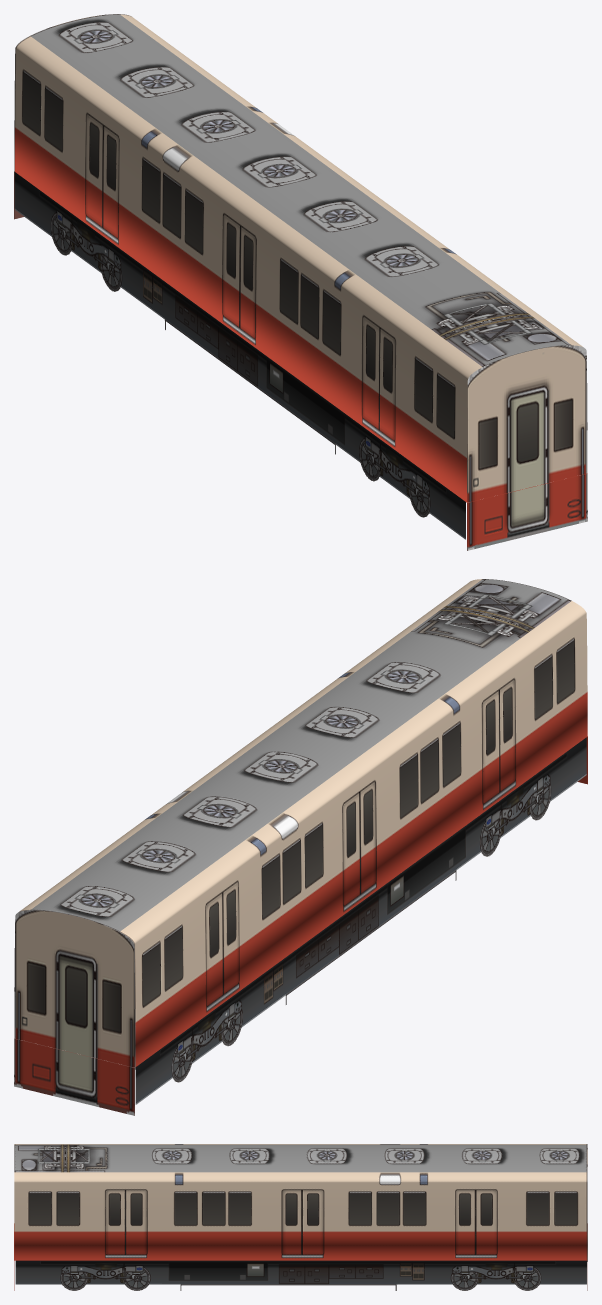
Rendered from car2.glb.
The picture shows the model from 3 angles, top to bottom: view 1: azimuth 30°, elevation 25°; view 2: azimuth 150°, elevation 25°; view 3: azimuth 270°, elevation 25°; orthographic projection. The views are drawn at different scales.
Parts seen in each view (by area): view 1: hansin-8000-car2; view 2: hansin-8000-car2; view 3: hansin-8000-car2.
Part boxes in pixels (x1,y1,x2,y2): hansin-8000-car2: [14, 14, 587, 550]; hansin-8000-car2: [14, 579, 587, 1115]; hansin-8000-car2: [14, 1144, 587, 1290].
Bounding box in the file's own units: 2.8 × 4.09 × 18.21.
Materials: 9 (8 with a texture image).
